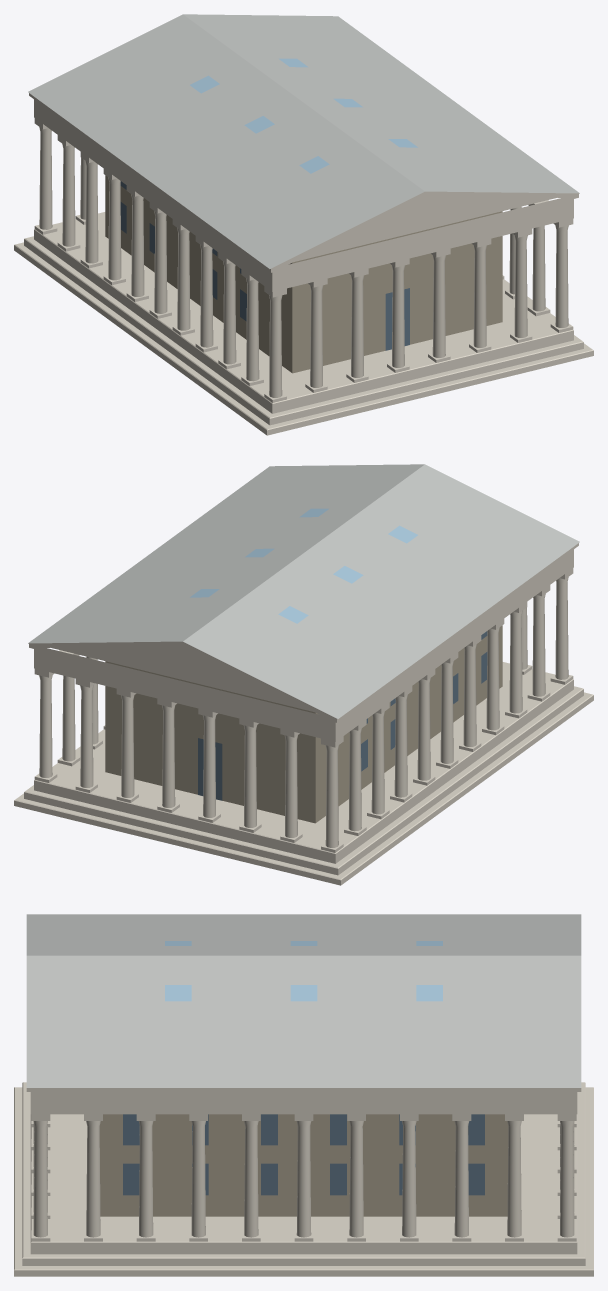
File: phl-girard-college-founders-hall.glb
The picture shows the model from 3 angles, top to bottom: view 1: azimuth 30°, elevation 25°; view 2: azimuth 150°, elevation 25°; view 3: azimuth 270°, elevation 25°; orthographic projection. The views are drawn at different scales.
Visible parts, largest first — view 1: Founder's Hall, Girard College; view 2: Founder's Hall, Girard College; view 3: Founder's Hall, Girard College.
Boxes of the visible parts, left/top/right/bottom form: Founder's Hall, Girard College: left=14, top=14, right=593, bottom=435; Founder's Hall, Girard College: left=14, top=464, right=593, bottom=885; Founder's Hall, Girard College: left=14, top=914, right=593, bottom=1276.
Size of the model in its own units: 51.6 by 30.2 by 69.2.
